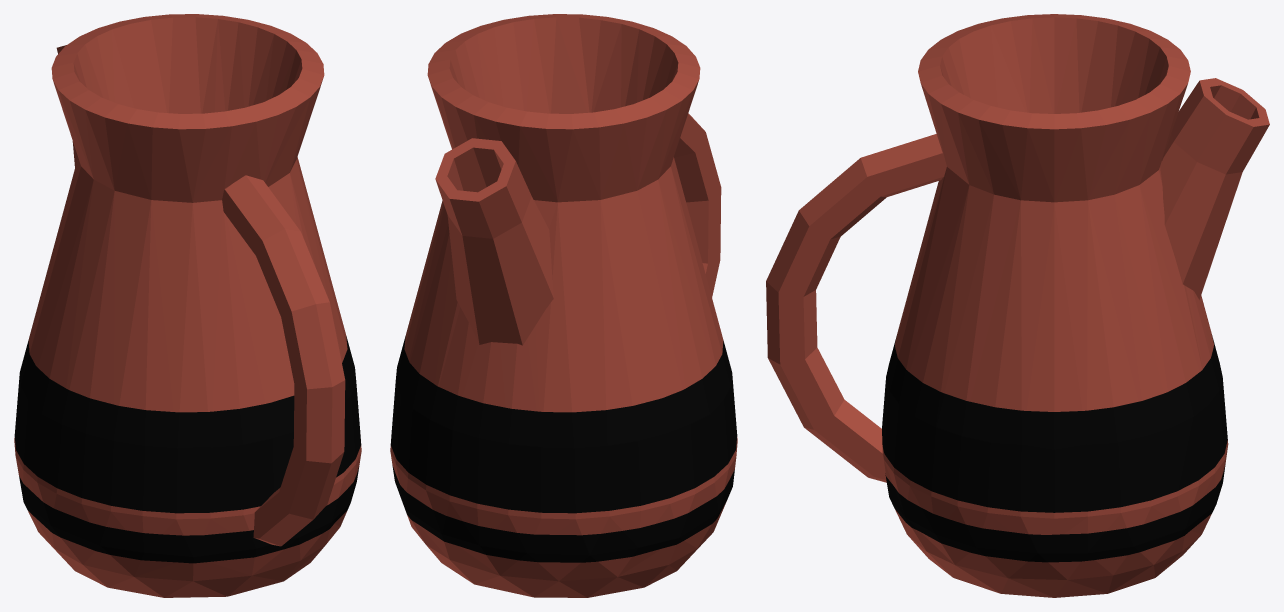
The model's file is Pottery 16_3b.fbx.
3 renders of one model, left to right at view 1: azimuth 30°, elevation 25°; view 2: azimuth 150°, elevation 25°; view 3: azimuth 270°, elevation 25°, orthographic.
Parts seen in each view (by area): view 1: Pottery 16_3b.007, Pottery 16_3b, Pottery 16_3b.003, Pottery 16_3b.002, Pottery 16_3b.004, Pottery 16_3b.001; view 2: Pottery 16_3b.002, Pottery 16_3b, Pottery 16_3b.003, Pottery 16_3b.007, Pottery 16_3b.004, Pottery 16_3b.001, Pottery 16_3b.006; view 3: Pottery 16_3b.004, Pottery 16_3b.001, Pottery 16_3b.007, Pottery 16_3b.002, Pottery 16_3b.006, Pottery 16_3b.003, Pottery 16_3b.
Boxes of the visible parts, bbox=[...] form: Pottery 16_3b.007: bbox=[91, 87, 345, 575]; Pottery 16_3b: bbox=[14, 342, 350, 597]; Pottery 16_3b.003: bbox=[20, 53, 117, 399]; Pottery 16_3b.002: bbox=[56, 14, 222, 167]; Pottery 16_3b.004: bbox=[272, 41, 361, 521]; Pottery 16_3b.001: bbox=[214, 16, 305, 112]; Pottery 16_3b.002: bbox=[401, 78, 600, 514]; Pottery 16_3b: bbox=[426, 304, 737, 597]; Pottery 16_3b.003: bbox=[582, 72, 708, 440]; Pottery 16_3b.007: bbox=[551, 14, 731, 371]; Pottery 16_3b.004: bbox=[446, 14, 556, 113]; Pottery 16_3b.001: bbox=[390, 41, 479, 449]; Pottery 16_3b.006: bbox=[390, 395, 449, 559]; Pottery 16_3b.004: bbox=[893, 92, 1054, 547]; Pottery 16_3b.001: bbox=[1054, 100, 1172, 516]; Pottery 16_3b.007: bbox=[766, 18, 1027, 533]; Pottery 16_3b.002: bbox=[1115, 31, 1269, 472]; Pottery 16_3b.006: bbox=[976, 427, 1224, 579]; Pottery 16_3b.003: bbox=[1003, 14, 1150, 113]; Pottery 16_3b: bbox=[905, 446, 1227, 597].
Bounding box in the file's own units: 30.34 × 45.97 × 43.99.
